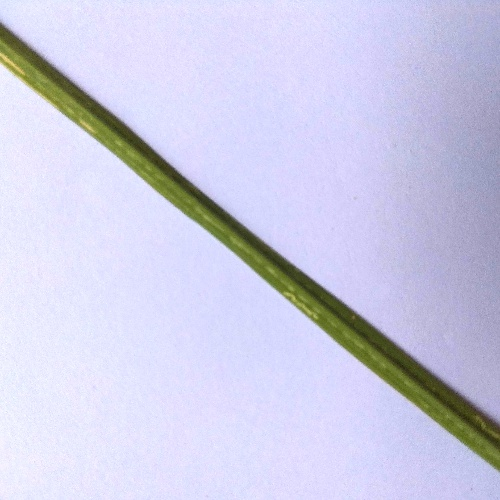Busuk Leher: (278, 283, 322, 330), (1, 51, 29, 79), (473, 411, 500, 440), (77, 116, 97, 137)
